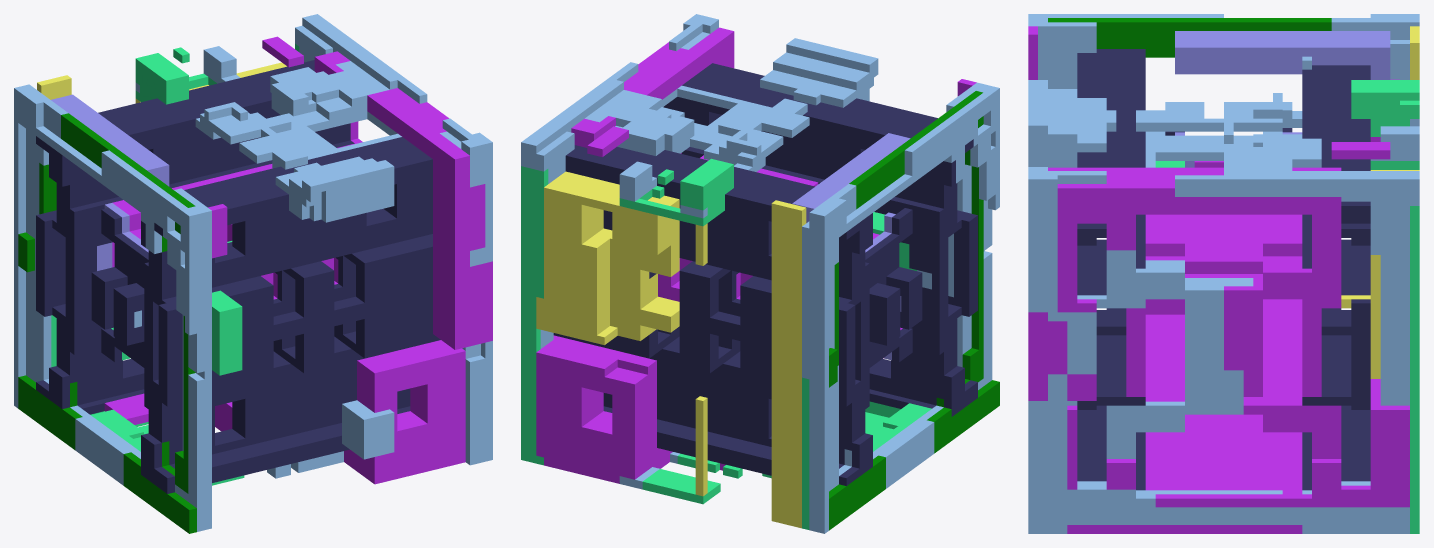
File: cubemix1.glb
3 views of the same model, side by side, from view 1: azimuth 30°, elevation 25°; view 2: azimuth 150°, elevation 25°; view 3: azimuth 270°, elevation 25° (orthographic). The views are drawn at different scales.
Parts seen in each view (by area): view 1: Asset3DLoader.sceneRoot; view 2: Asset3DLoader.sceneRoot; view 3: Asset3DLoader.sceneRoot.
Boxes of the visible parts, left/top/right/bottom form: Asset3DLoader.sceneRoot: left=14, top=14, right=492, bottom=533; Asset3DLoader.sceneRoot: left=521, top=14, right=999, bottom=533; Asset3DLoader.sceneRoot: left=1028, top=14, right=1419, bottom=533.
Bounding box in the file's own units: 4 × 4 × 4.
1 material, 1 textured.
